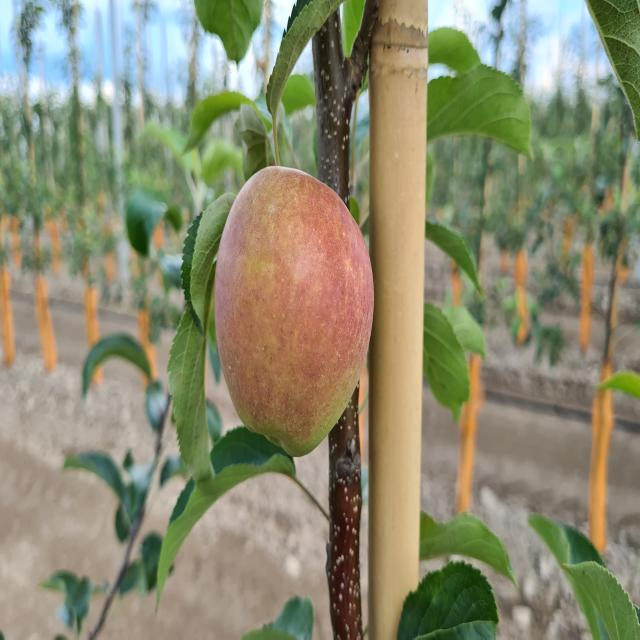Apple: (215, 167, 374, 456)
